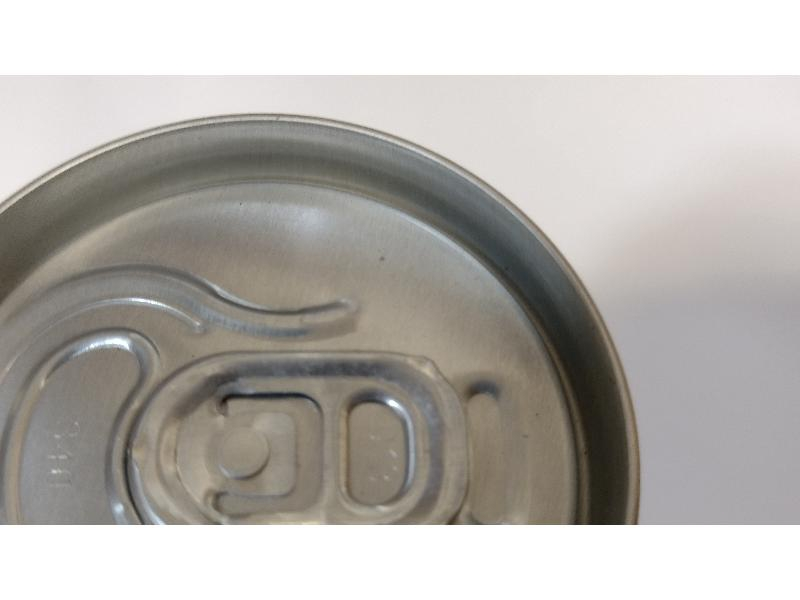can: (1, 116, 635, 519)
